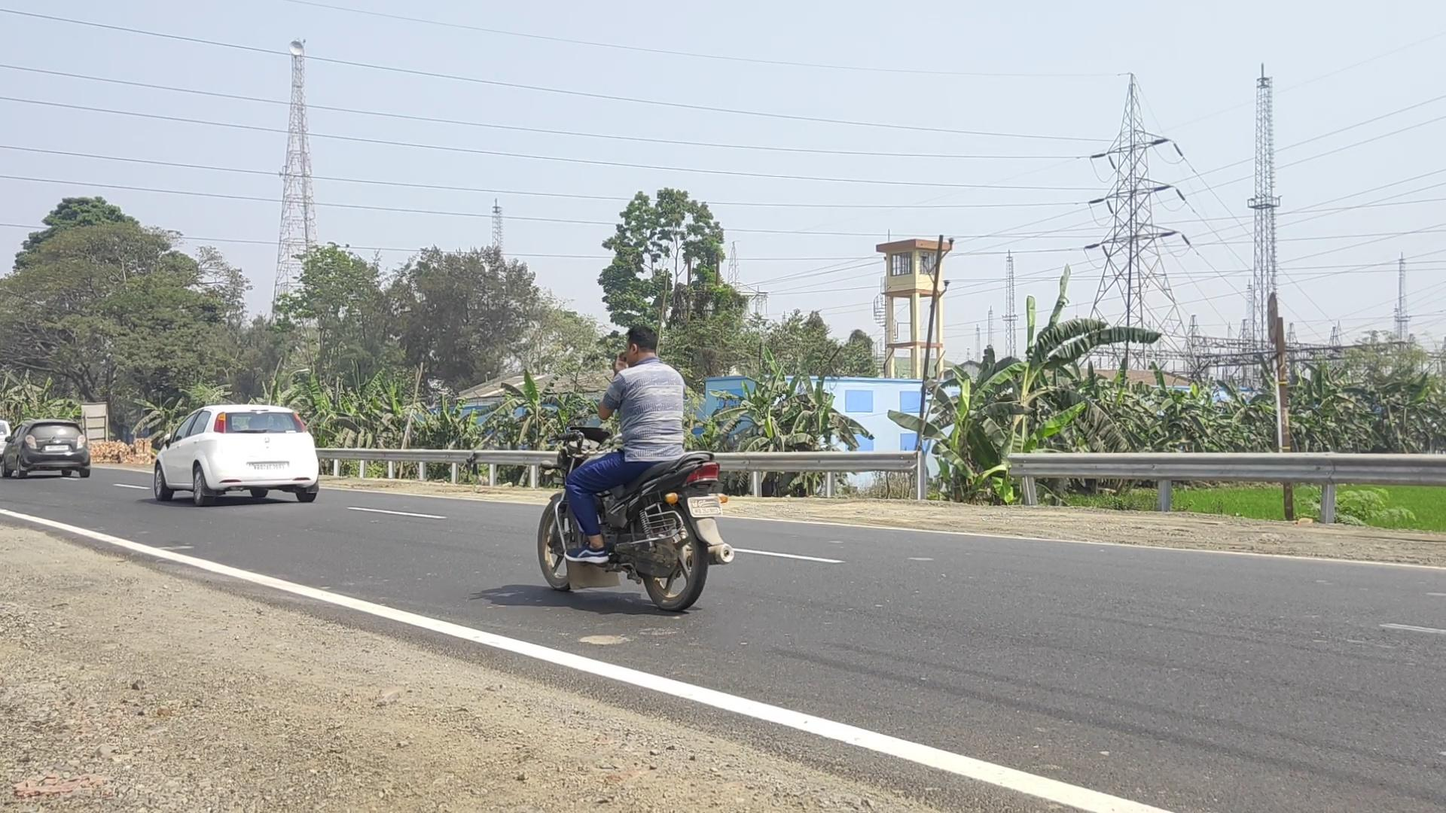bike: (537, 326, 734, 612)
car: (154, 404, 319, 507), (1, 417, 92, 480)
